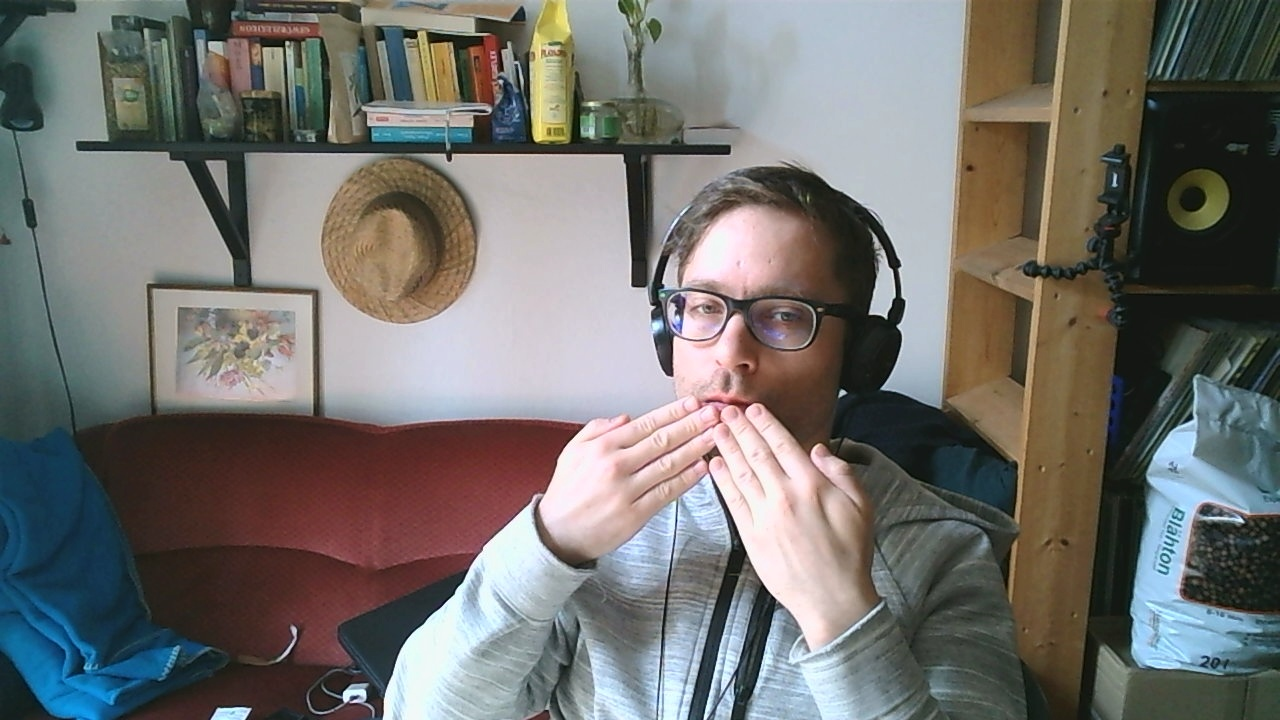thanks: (541, 390, 881, 627)
